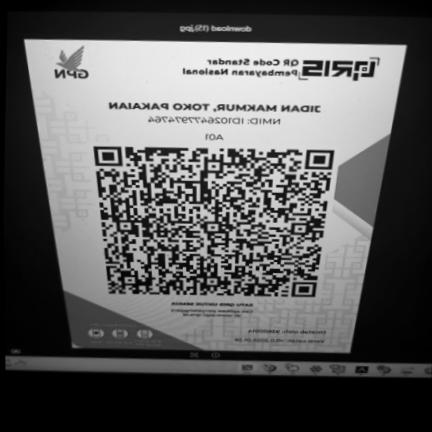Cara Pakai QRIS: (69, 320, 168, 350)
Cek Aplikasi Penyelenggara: (166, 308, 257, 318)
Dicetak Oleh: (246, 327, 328, 335)
Logo GPN: (47, 42, 98, 84)
Logo dan deskripsi QRIS: (168, 50, 389, 86)
Nama Merchant: (103, 99, 327, 116)
National Merchant ID: (141, 115, 286, 127)
QR Code: (87, 143, 340, 301)
Slogan: (166, 301, 258, 308)
Terminal ID: (202, 131, 228, 142)
Versi Cetak: (232, 336, 327, 345)
